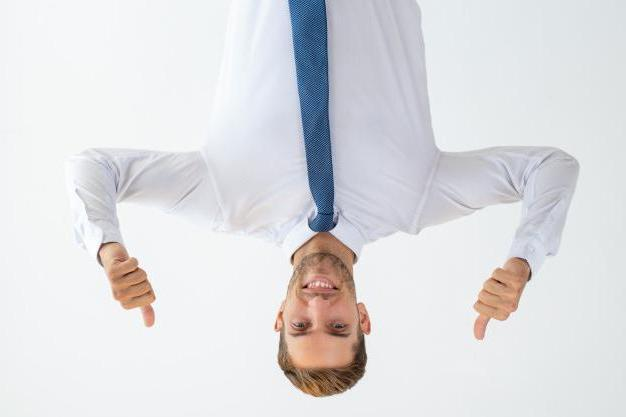thumbsdown: (473, 268, 526, 340), (108, 258, 156, 328)
